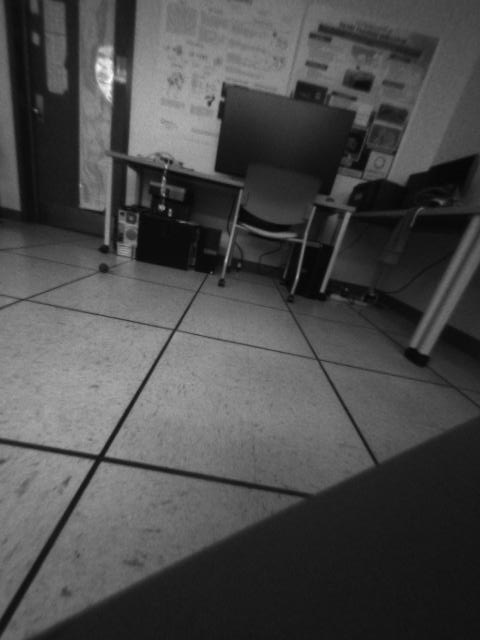dogtoy: (95, 259, 114, 277)
